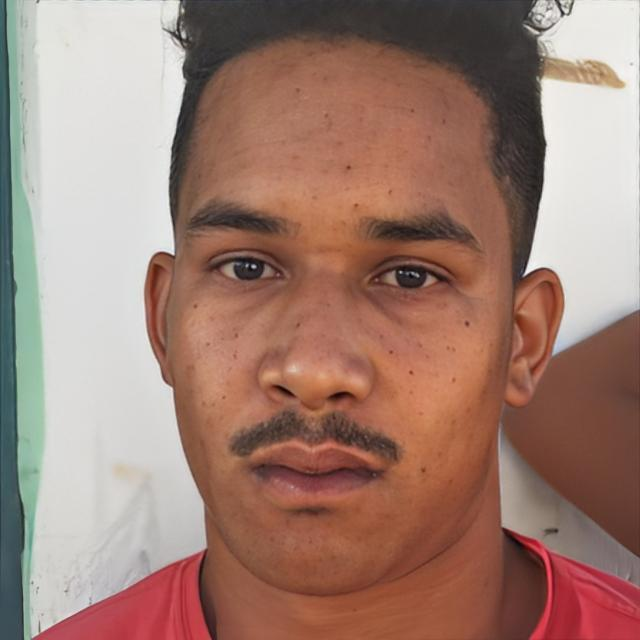neutral: (168, 48, 510, 602)
